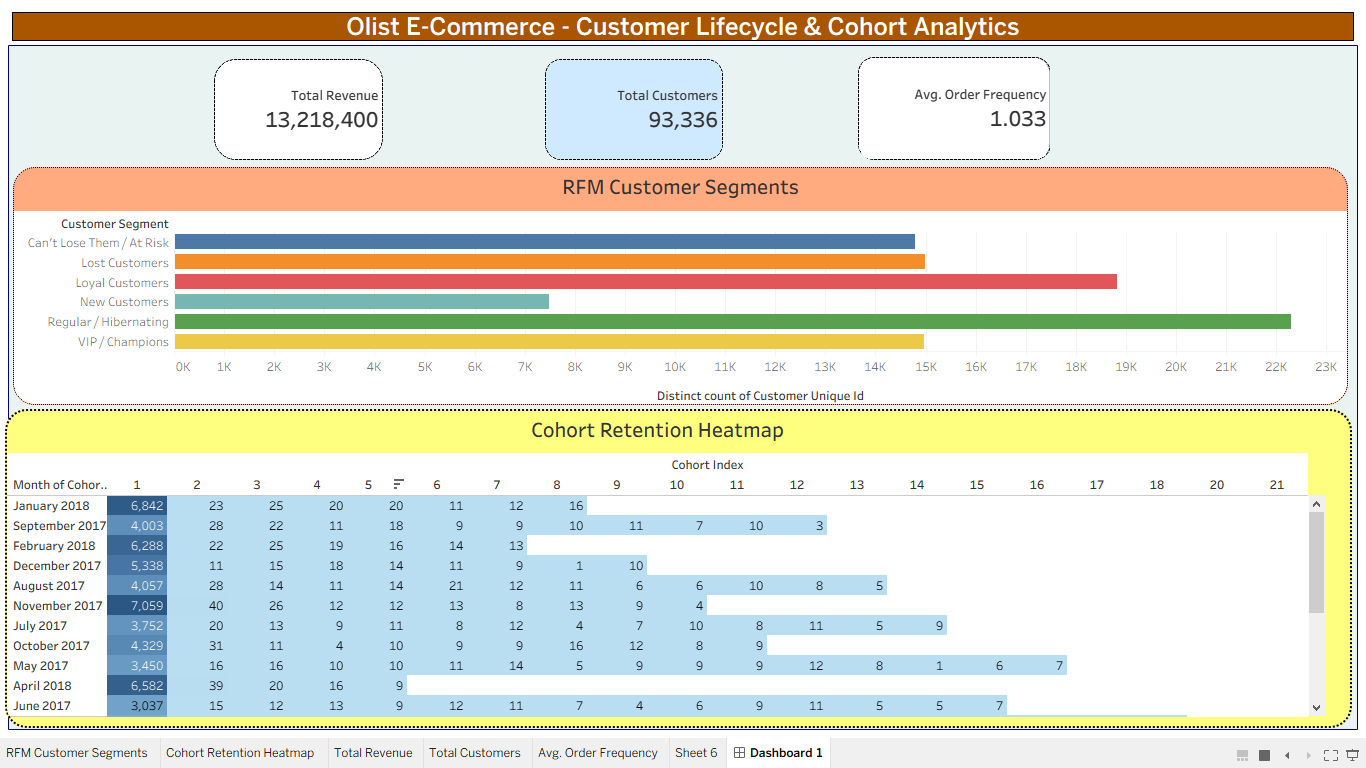

Layout of this report page (visuals, bound fields, positions):
{"tool":"tableau","page":{"name":"Dashboard 1","canvas":[1000,1000],"units":"permille","ordinal":0},"visuals":[{"type":"title","box":[6.9,13.5,986.2,62.5]},{"type":"worksheet","title":"Avg. Order Frequency","mark":"Automatic","box":[628,77.7,141,140.2]},{"type":"worksheet","title":"Total Revenue","mark":"Automatic","box":[156.6,79.4,123.7,136.8]},{"type":"worksheet","title":"Total Customers","mark":"Automatic","box":[398.8,79.4,130.6,136.8]},{"type":"worksheet","title":"RFM Customer Segments","mark":"Automatic","rows":["Customer_Segment"],"cols":["customer_unique_id"],"box":[9.5,226.3,977.5,322.6]},{"type":"worksheet","title":"Cohort Retention Heatmap","mark":"Square","rows":["cohort_month"],"cols":["cohort_index"],"box":[3.5,554.1,986.2,432.4]}]}

Visuals, with their boxes on the dashboard's canvas, which has no fixed pixel size, in thousandths of its width and height (x1, y1, x2, y2). These are canvas units, not pixel positions in the 1366x768 screenshot, which may show the page scaled, cropped or inside an application window:
title: locate(7, 14, 993, 76)
"Avg. Order Frequency" worksheet: locate(628, 78, 769, 218)
"Total Revenue" worksheet: locate(157, 79, 280, 216)
"Total Customers" worksheet: locate(399, 79, 529, 216)
"RFM Customer Segments" worksheet: locate(10, 226, 987, 549)
"Cohort Retention Heatmap" worksheet (Square marks): locate(4, 554, 990, 986)
